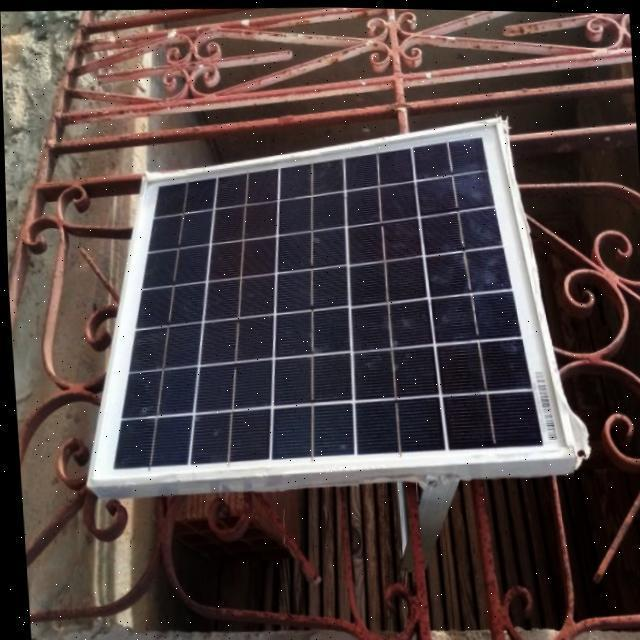Normal Solar Panel: (64, 108, 571, 492)
